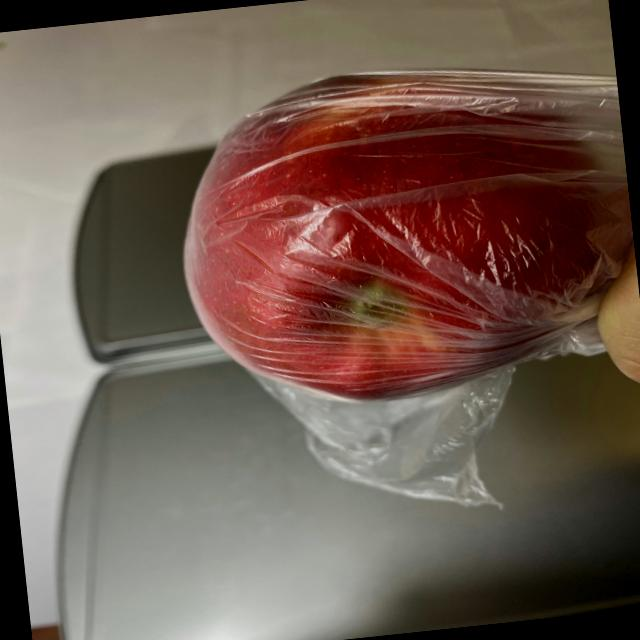apple: (154, 41, 621, 424)
